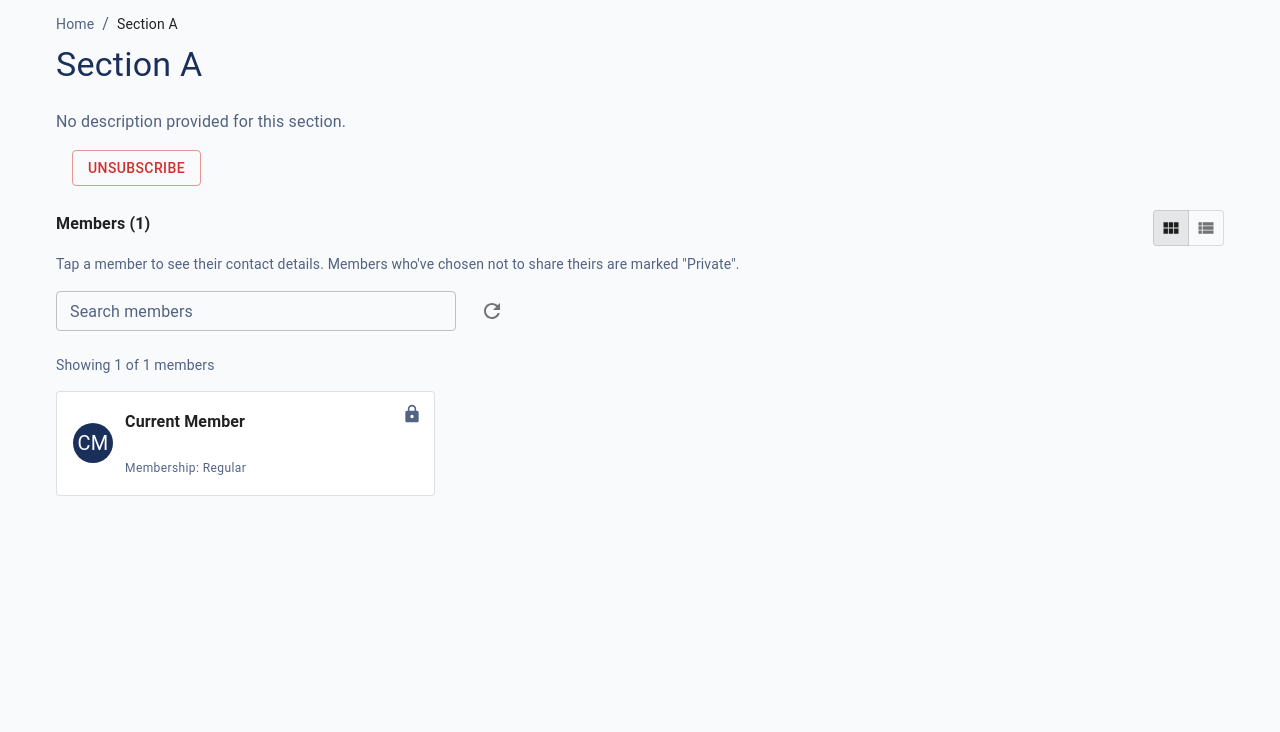
Scenario: SectionDetail authoritative read selection › retires related EVENTS summaries before a unsubscribe write whose response is lost, without replaying it
This screenshot has width=1280, height=732.
Expected: the heading "Current Member" is shown, top-left (125, 412), bottom-right (245, 430)
Click the button "Unsubscribe". click: point(136, 168)
box: top-left (72, 150), bottom-right (201, 186)
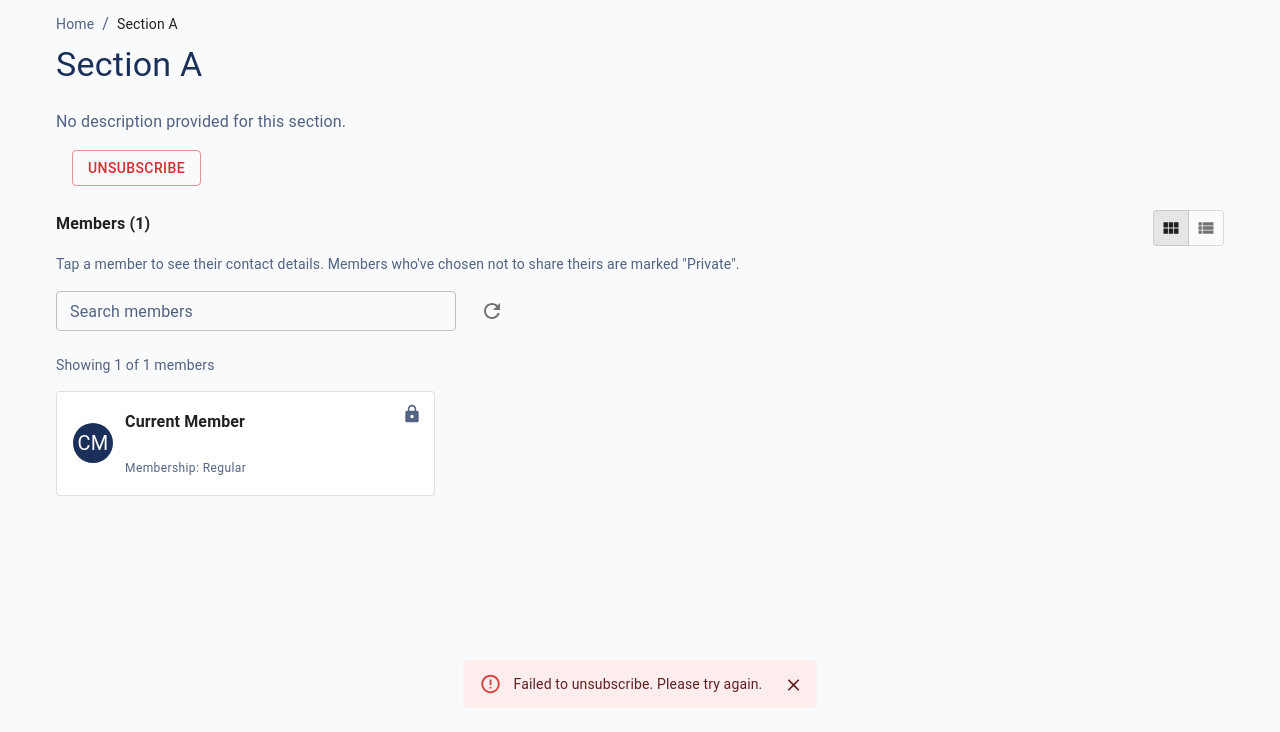
Expected: the text "Failed to unsubscribe. Please try again." is shown, top-left (514, 676), bottom-right (762, 692)
